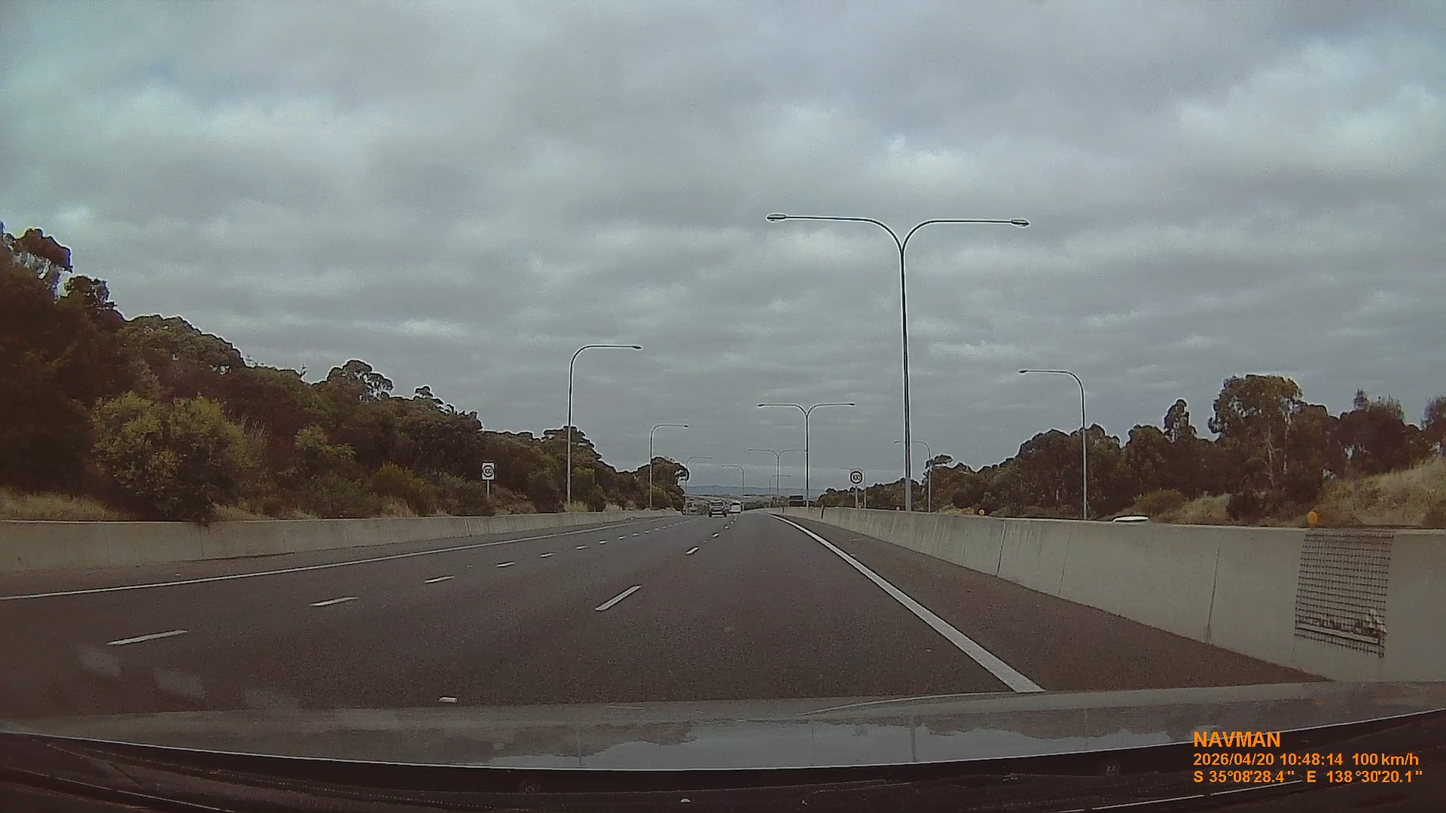road barriers: (824, 510, 1445, 681), (0, 510, 676, 593)
